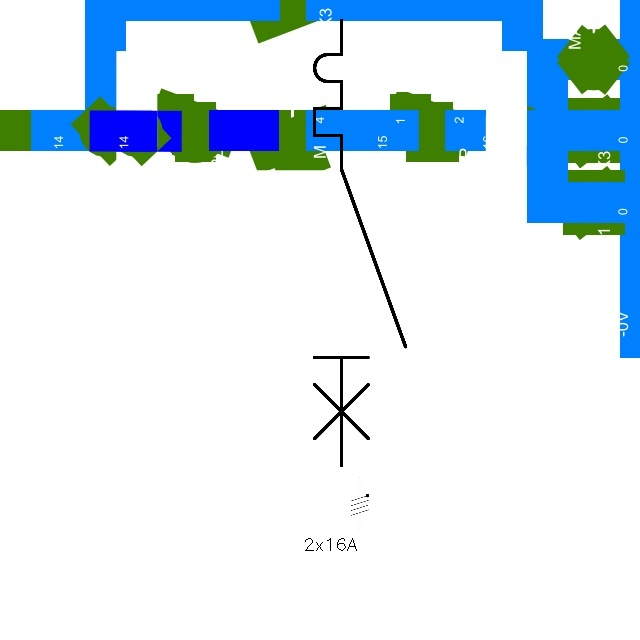interruptor_termomagnetico: (303, 9, 417, 477)
